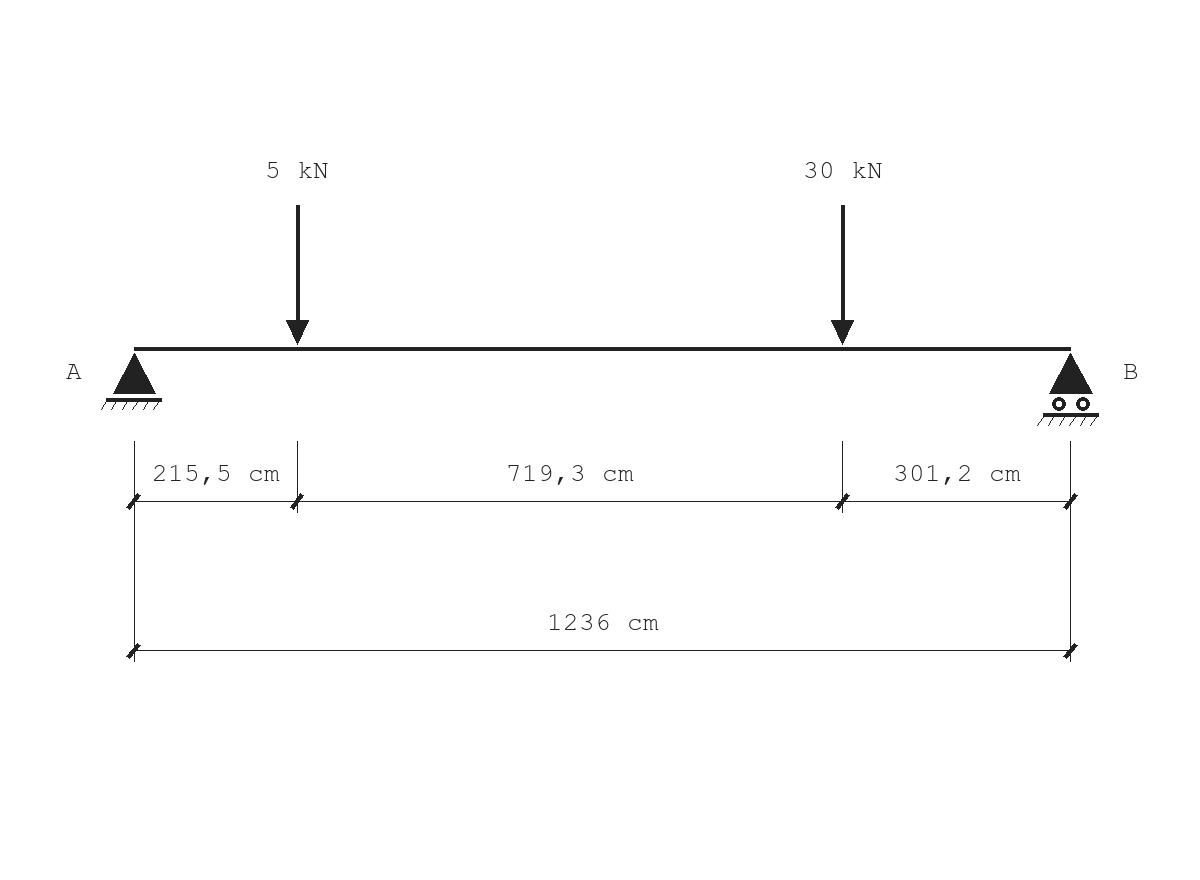pin_support: (101, 353, 162, 410)
point_load: (286, 205, 309, 345), (831, 205, 854, 345)
roller_support: (1037, 353, 1099, 426)
